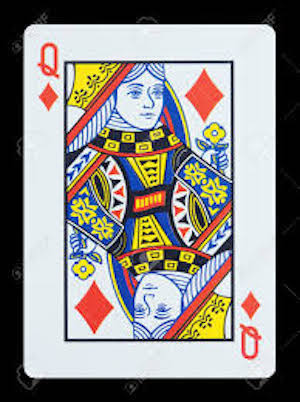QueenOfDiamonds: (12, 17, 286, 384)
